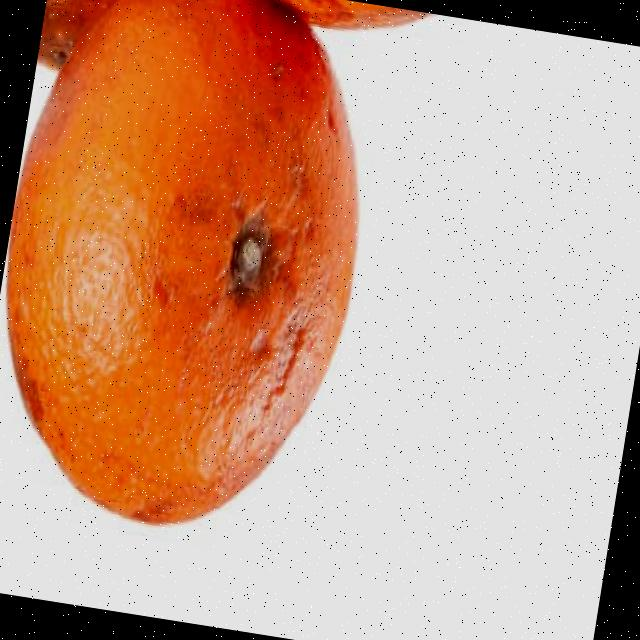overripe: (0, 0, 401, 563)
